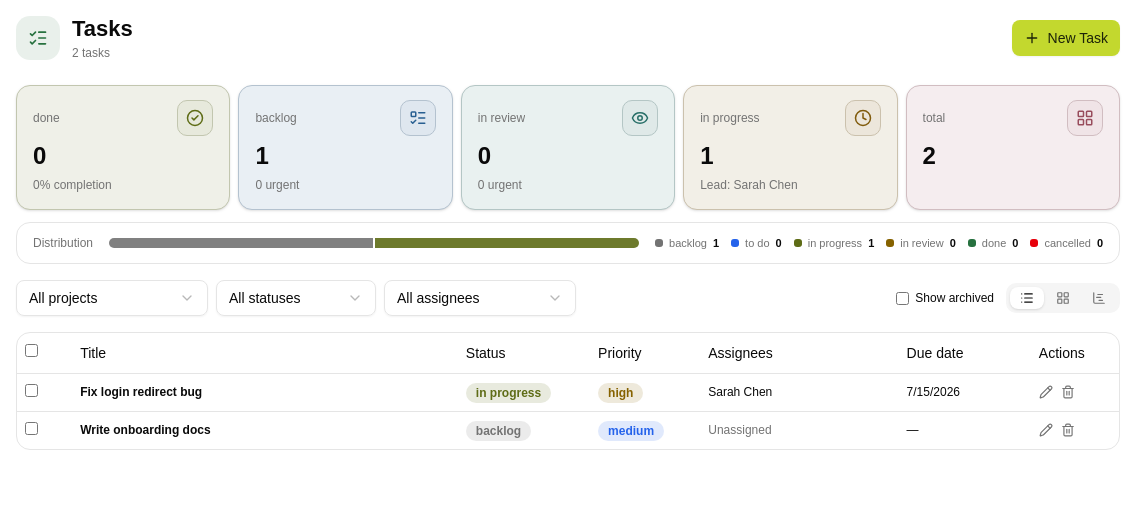
Test: Tasks — bulk delete › select-all toggles back off, clearing the selection
Expected: the text "Fix login redirect bug" is shown, x1=80 y1=384 x2=202 y2=400
What coordinates should you click on to do the following:
click the checkbox named "select all tasks"
I would click on:
 (32, 351)
Its box is x1=25 y1=344 x2=38 y2=357.
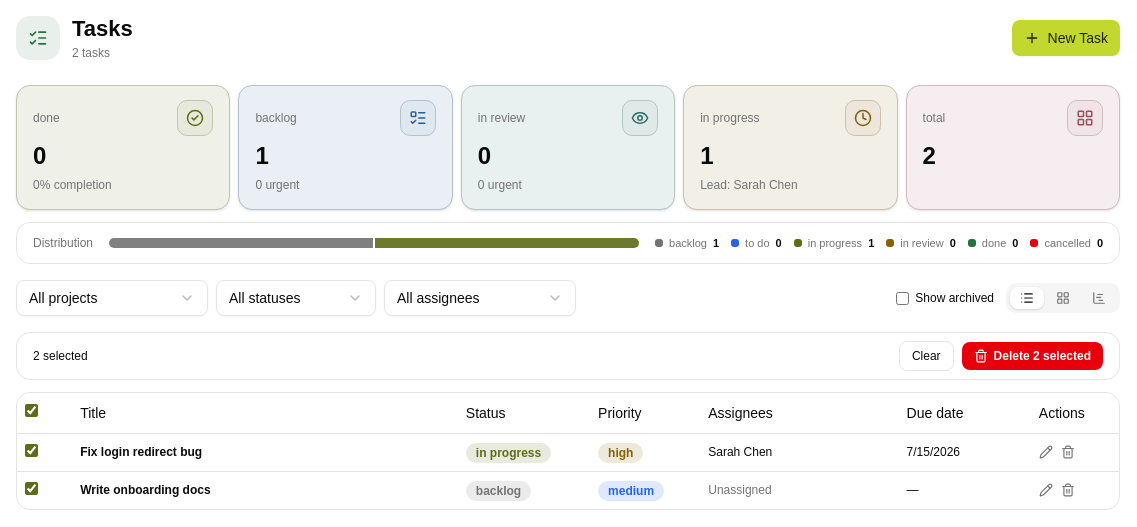
Expected: the button "Delete 2 selected" is shown, x1=962 y1=342 x2=1103 y2=370
What coordinates should you click on to do the following:
click the checkbox named "select all tasks"
I would click on:
 (32, 411)
Its box is x1=25 y1=404 x2=38 y2=417.
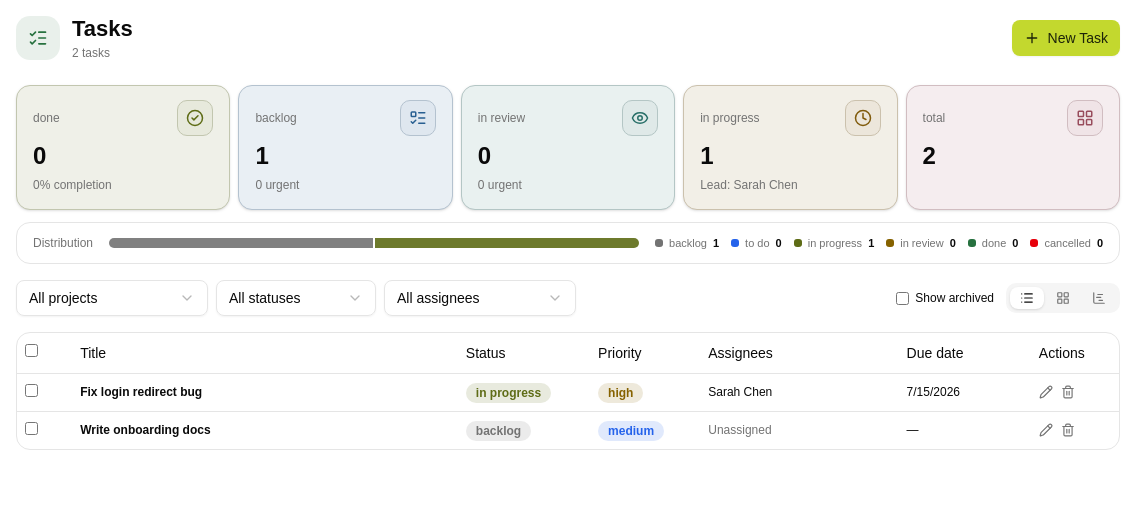
Expected: the button "Delete 2 selected" is gone
